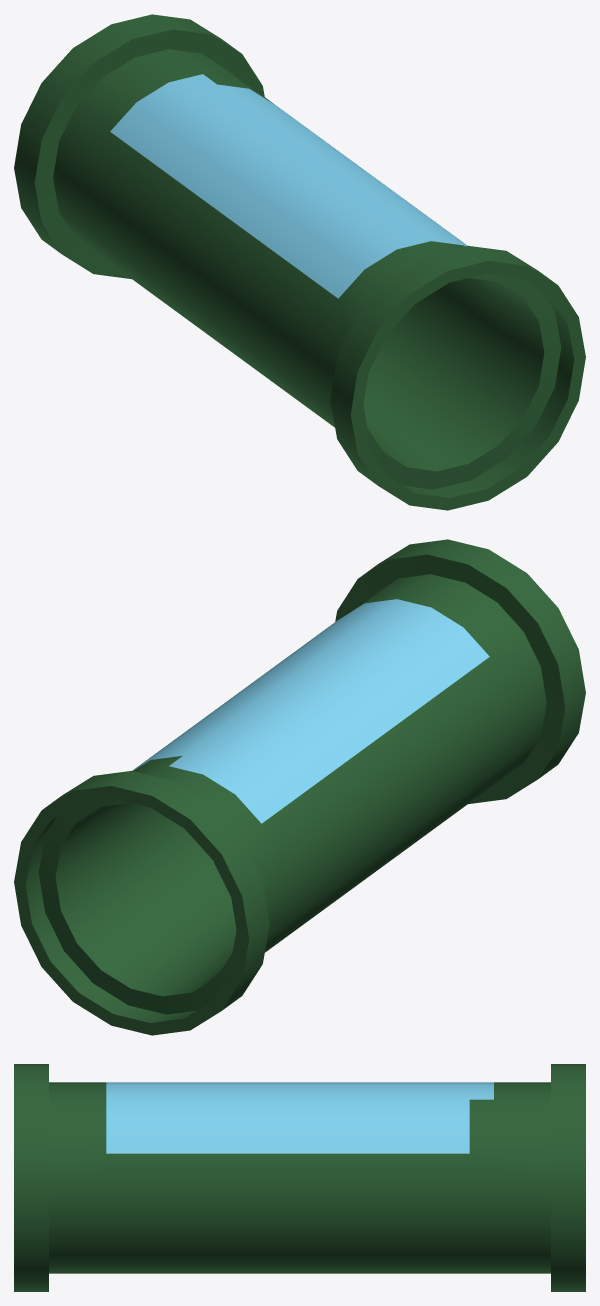
File: recta ventana.fbx
3 renders of one model, top to bottom at view 1: azimuth 30°, elevation 25°; view 2: azimuth 150°, elevation 25°; view 3: azimuth 270°, elevation 25°, orthographic. The views are drawn at different scales.
Visible parts, largest first — view 1: RECTA001, ventana recta; view 2: RECTA001, ventana recta; view 3: RECTA001, ventana recta.
Boxes of the visible parts, x1,y1,x2,y2 form: RECTA001: [14, 14, 585, 510]; ventana recta: [110, 74, 467, 298]; RECTA001: [14, 539, 585, 1035]; ventana recta: [132, 599, 489, 823]; RECTA001: [14, 1064, 585, 1291]; ventana recta: [106, 1082, 493, 1153].
Bounding box in the file's own units: 0.4035 × 0.3929 × 1.
